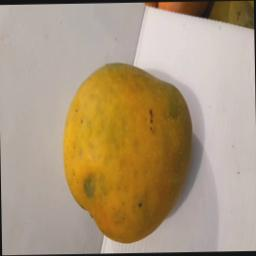Mango Ripe: (43, 38, 204, 243)
